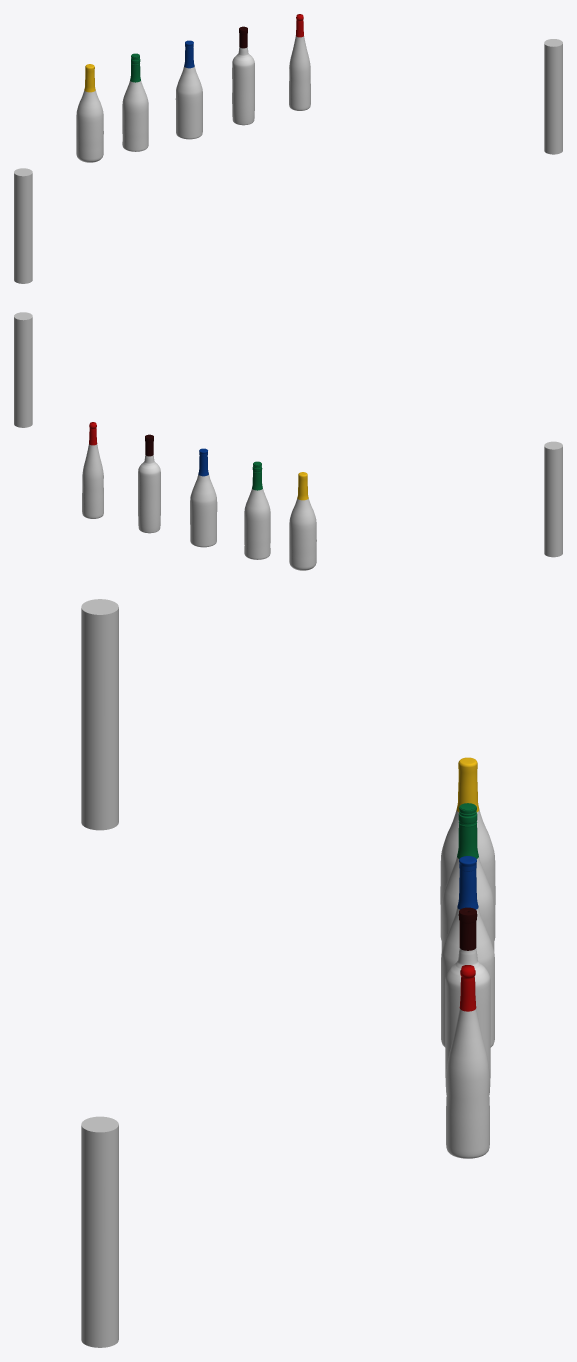
Rendered from Bottal Pack.fbx.
3 views of the same model, one above another, from view 1: azimuth 30°, elevation 25°; view 2: azimuth 150°, elevation 25°; view 3: azimuth 270°, elevation 25° (orthographic). The views are drawn at different scales.
Visible parts, largest first — view 1: Cylinder, Cylinder.1, 1, 3, 4, 2, 5; view 2: Cylinder.1, Cylinder, 1, 3, 4, 2, 5; view 3: Cylinder.1, Cylinder, 5, 2, 3, 4, 1.
Part boxes in pixels (left/top/right/bottom): Cylinder: left=544, top=39, right=562, bottom=154; Cylinder.1: left=14, top=168, right=32, bottom=283; 1: left=76, top=64, right=103, bottom=162; 3: left=175, top=40, right=202, bottom=139; 4: left=122, top=53, right=148, bottom=151; 2: left=232, top=26, right=254, bottom=125; 5: left=289, top=14, right=310, bottom=110; Cylinder.1: left=544, top=441, right=562, bottom=557; Cylinder: left=14, top=312, right=32, bottom=427; 1: left=289, top=472, right=316, bottom=570; 3: left=190, top=448, right=217, bottom=547; 4: left=244, top=461, right=270, bottom=559; 2: left=138, top=434, right=160, bottom=533; 5: left=82, top=422, right=103, bottom=518; Cylinder.1: left=81, top=599, right=118, bottom=830; Cylinder: left=81, top=1116, right=118, bottom=1347; 5: left=446, top=965, right=489, bottom=1158; 2: left=445, top=907, right=490, bottom=1094; 3: left=441, top=856, right=494, bottom=1047; 4: left=441, top=803, right=494, bottom=951; 1: left=440, top=757, right=495, bottom=940.
Bounding box in the file's own units: 2017 × 382 × 662.
